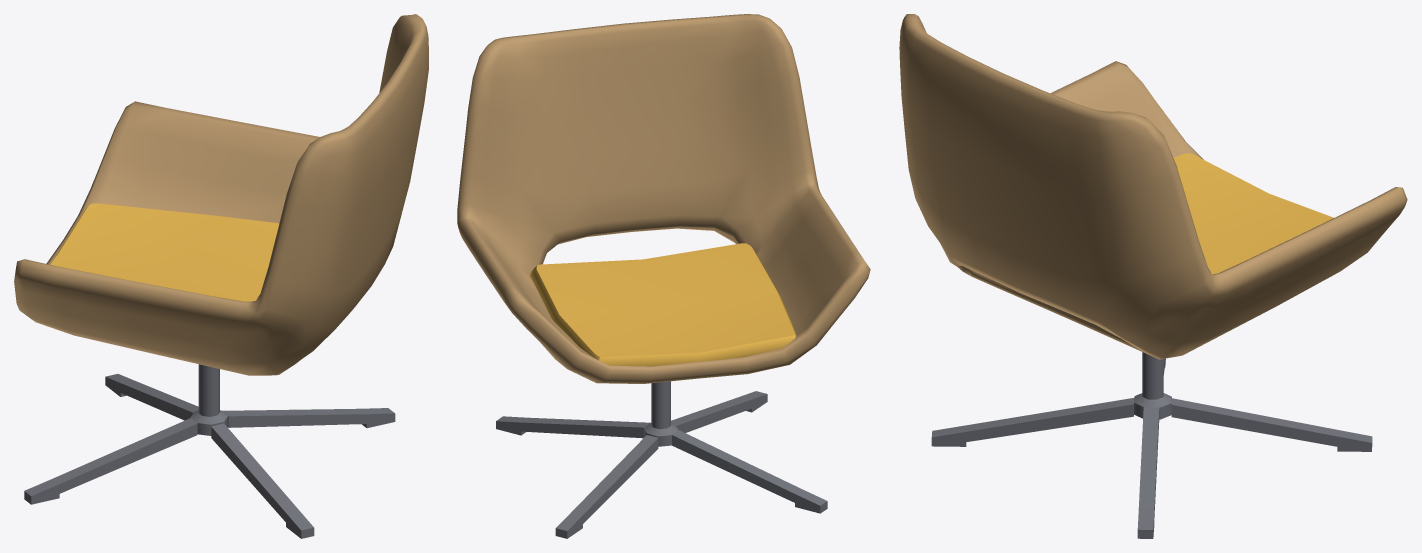
Rendered from Round_Table_Chair.fbx.
3 views of the same model, side by side, from view 1: azimuth 30°, elevation 25°; view 2: azimuth 150°, elevation 25°; view 3: azimuth 270°, elevation 25° (orthographic). The views are drawn at different scales.
Parts seen in each view (by area): view 1: Rectangle006, Rectangle007, Box025; view 2: Rectangle006, Rectangle007, Box025; view 3: Rectangle006, Box025, Rectangle007.
Boxes of the visible parts, x1,y1,x2,y2 form: Rectangle006: (14, 14, 428, 375); Rectangle007: (50, 203, 279, 301); Box025: (24, 364, 395, 538); Rectangle006: (457, 14, 870, 383); Rectangle007: (530, 243, 796, 366); Box025: (496, 381, 827, 538); Rectangle006: (899, 14, 1407, 359); Box025: (931, 352, 1372, 538); Rectangle007: (1173, 153, 1333, 274).
Bounding box in the file's own units: 81.85 × 77.1 × 82.08.
